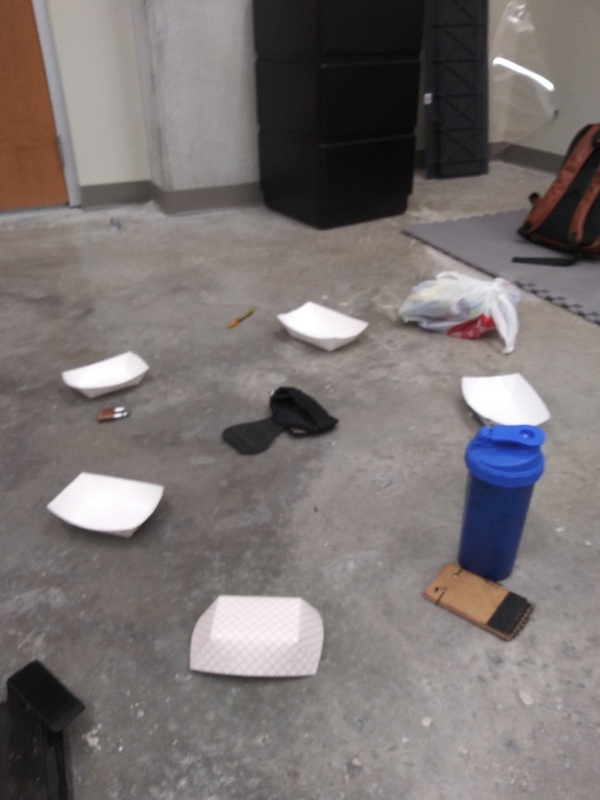plate: (182, 592, 329, 684), (38, 468, 170, 546), (271, 299, 374, 355), (458, 370, 554, 428), (60, 348, 153, 404)
